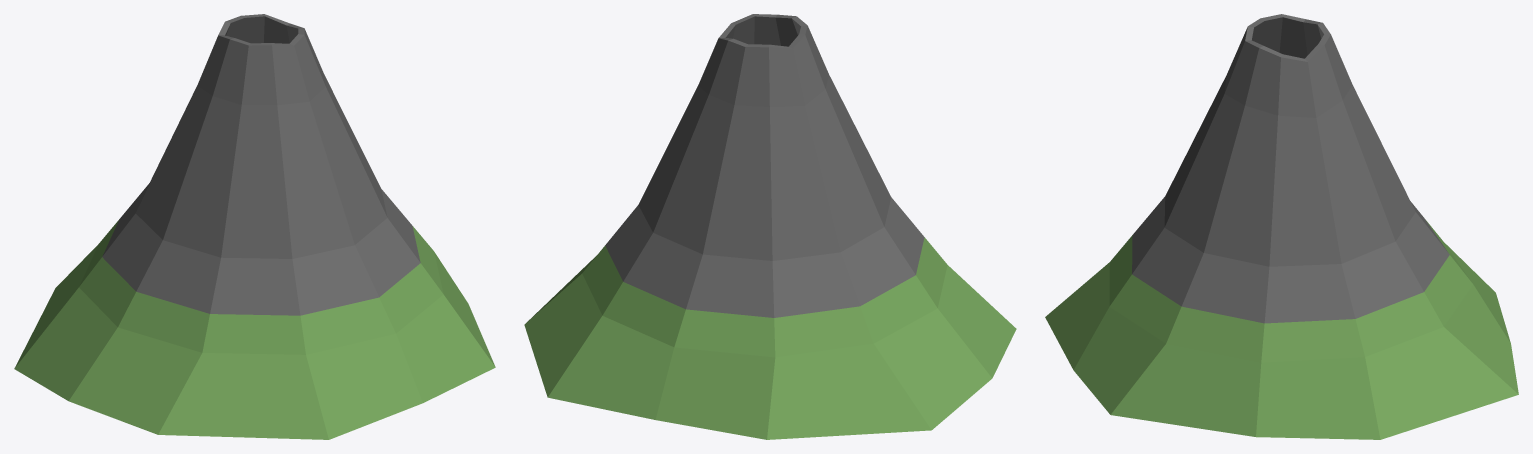
Rendered from Mountain_1.fbx.
3 views of the same model, side by side, from view 1: azimuth 30°, elevation 25°; view 2: azimuth 150°, elevation 25°; view 3: azimuth 270°, elevation 25° (orthographic).
Parts seen in each view (by area): view 1: Mountain_1; view 2: Mountain_1; view 3: Mountain_1.
Part boxes in pixels (x1,y1,x2,y2): Mountain_1: [14, 14, 495, 439]; Mountain_1: [524, 14, 1016, 439]; Mountain_1: [1045, 14, 1518, 439].
Bounding box in the file's own units: 3243 × 2450 × 3259.
